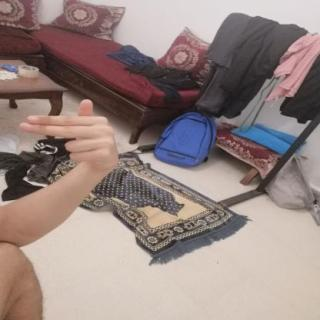GHAYN: (11, 96, 127, 176)
